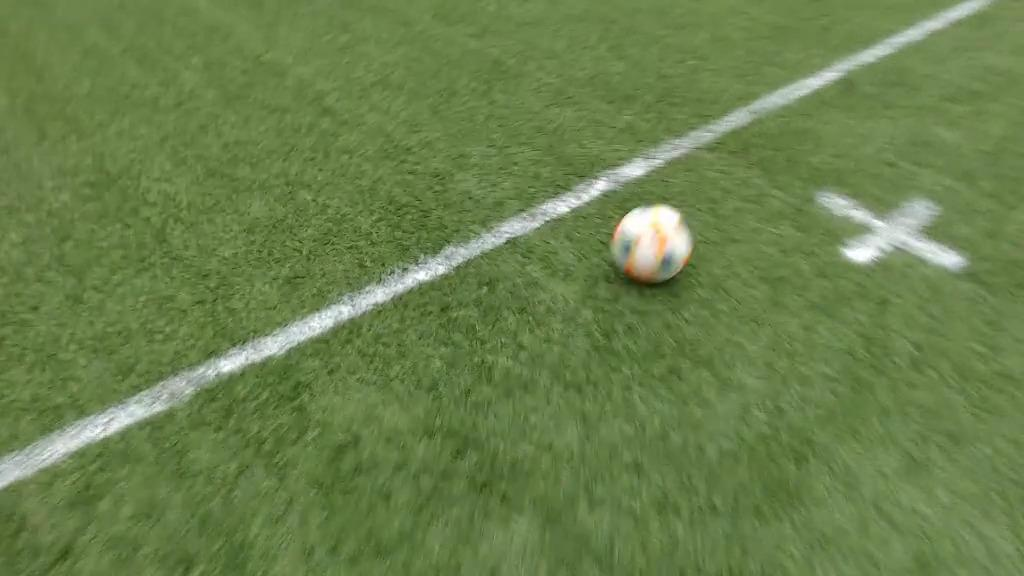ball: (610, 204, 694, 284)
